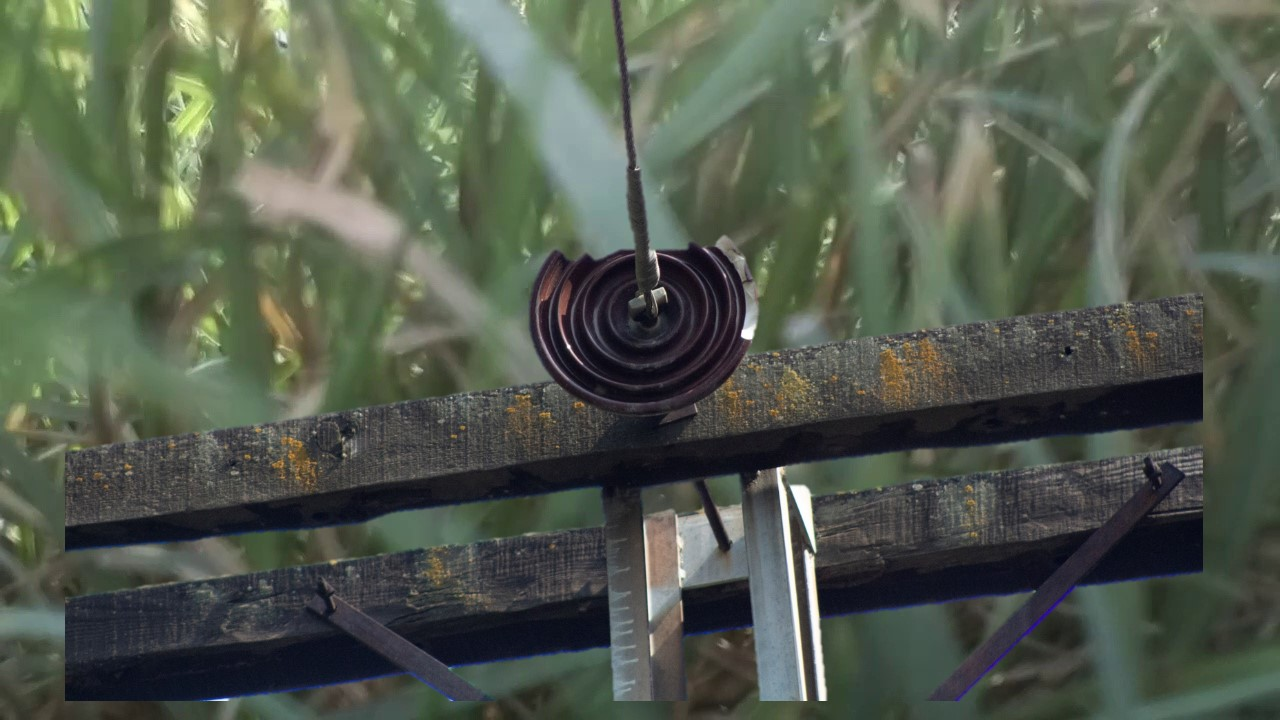defect_disc: (522, 234, 768, 422)
